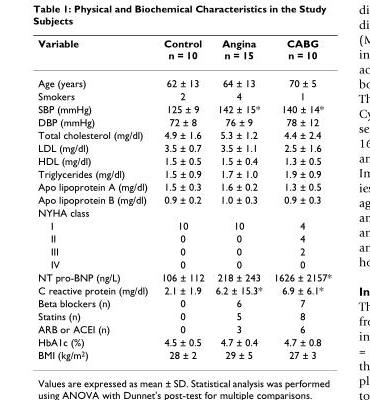table: (37, 36, 330, 360)
table column: (37, 36, 154, 360), (267, 36, 330, 360), (209, 36, 267, 360), (154, 36, 209, 360)
table column header: (37, 36, 330, 68)
table projected row header: (37, 205, 330, 218)
table row: (37, 36, 330, 68), (37, 68, 330, 89), (37, 89, 330, 102), (37, 102, 330, 115), (37, 115, 330, 128), (37, 128, 330, 141), (37, 141, 330, 154), (37, 166, 330, 179), (37, 179, 330, 192), (37, 192, 330, 205), (37, 205, 330, 218), (37, 218, 330, 231), (37, 231, 330, 244), (37, 244, 330, 257), (37, 257, 330, 270), (37, 270, 330, 283), (37, 283, 330, 296), (37, 296, 330, 309), (37, 309, 330, 322), (37, 322, 330, 335), (37, 335, 330, 348), (37, 154, 330, 166), (37, 348, 330, 360)
